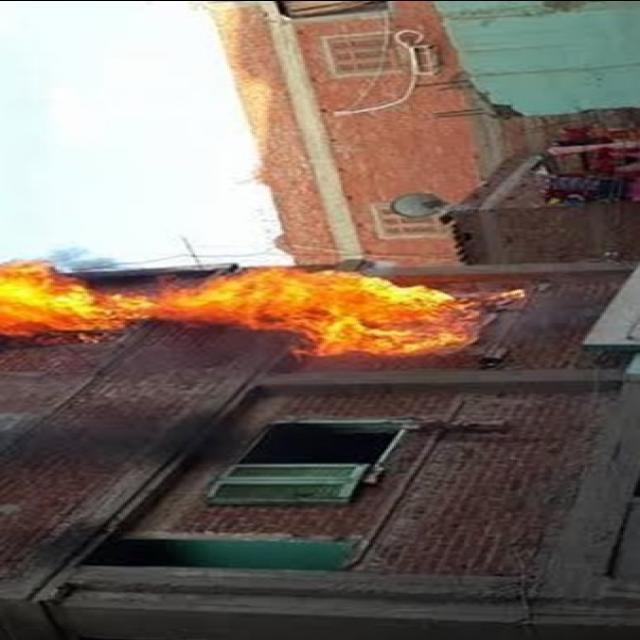Fire: (9, 256, 490, 365)
